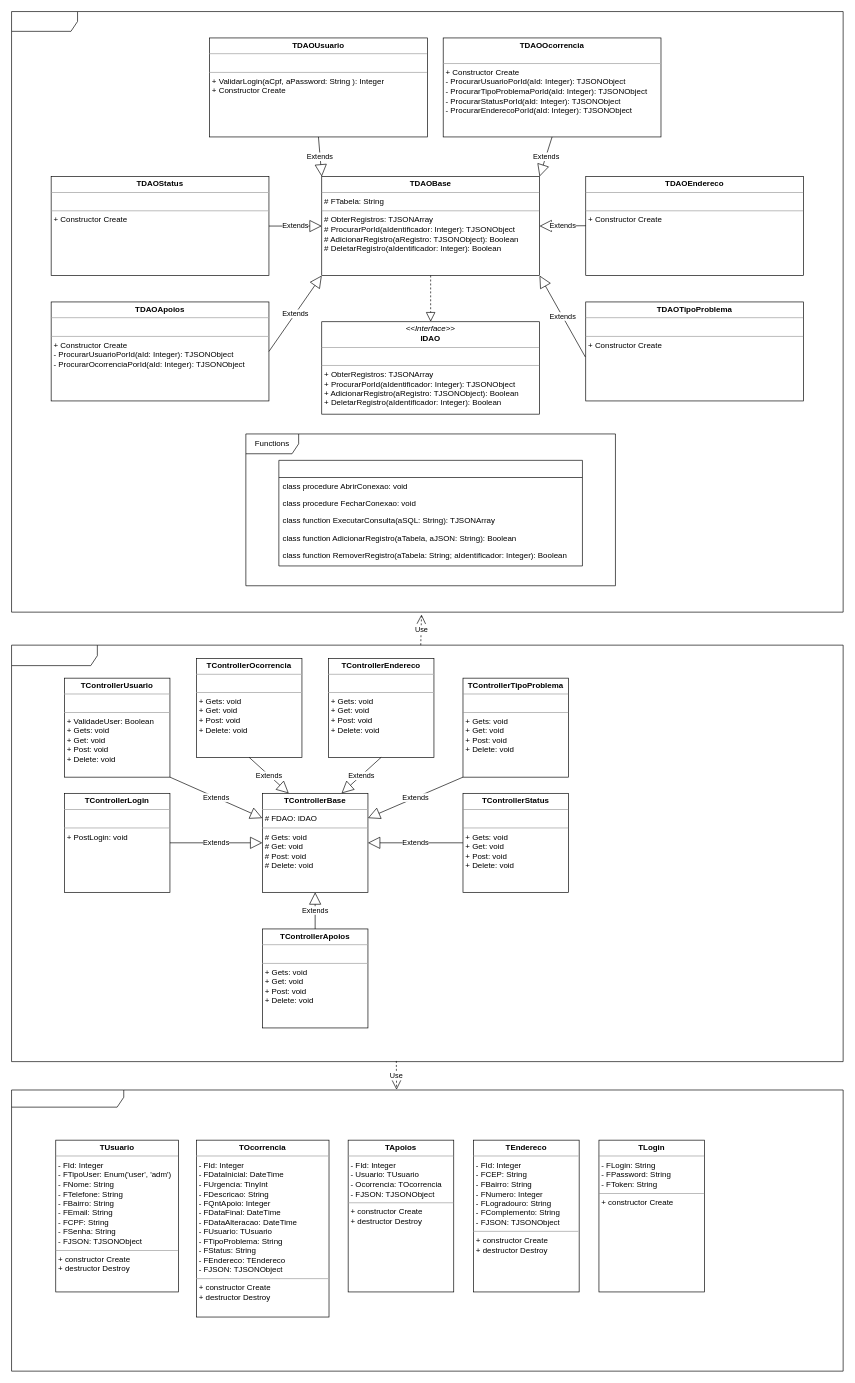
The diagram is 855 pixels wide and 1383 high, and some of its shapes have lost their labels. Here are the shapes that lost their labels. From the top down, the box of each, then its label:
(11, 11, 843, 612): DAO - Layer
(278, 460, 582, 566): TUtilBanco
(11, 644, 843, 1062): Controller - Layer
(11, 1089, 843, 1371): Classe Entidades
